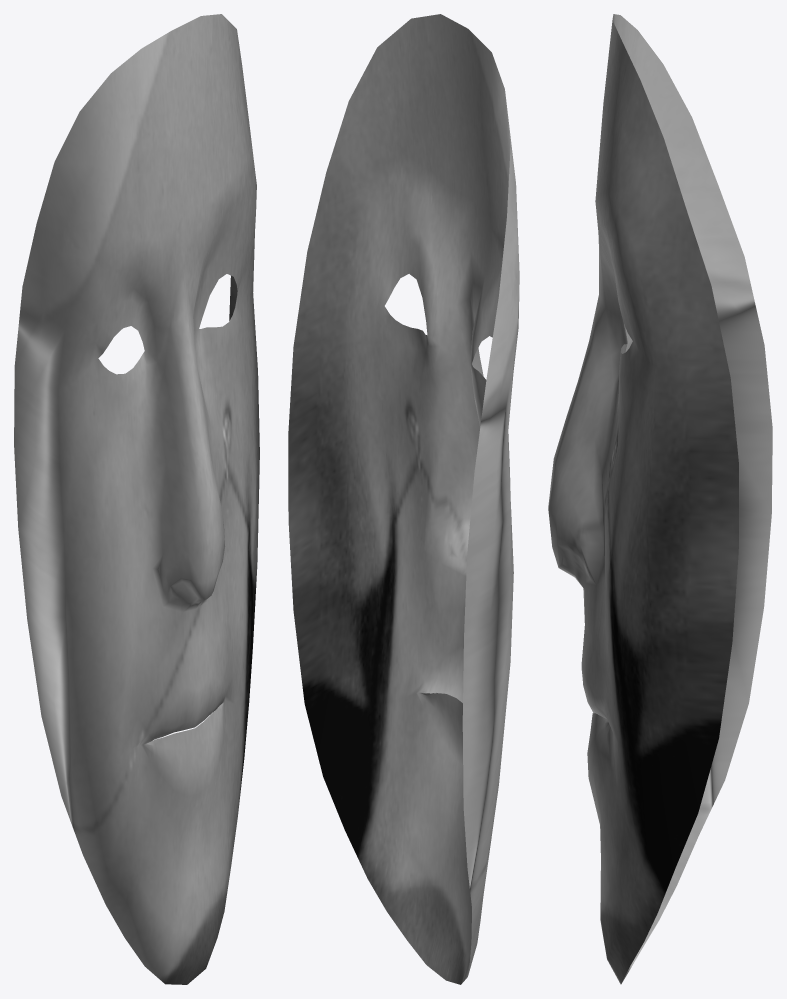
File: joanne_woodward.glb
3 views of the same model, side by side, from view 1: azimuth 30°, elevation 25°; view 2: azimuth 150°, elevation 25°; view 3: azimuth 270°, elevation 25° (orthographic).
Bounding box in the file's own units: 1 × 4.57 × 0.9586.
1 material, 1 textured.
